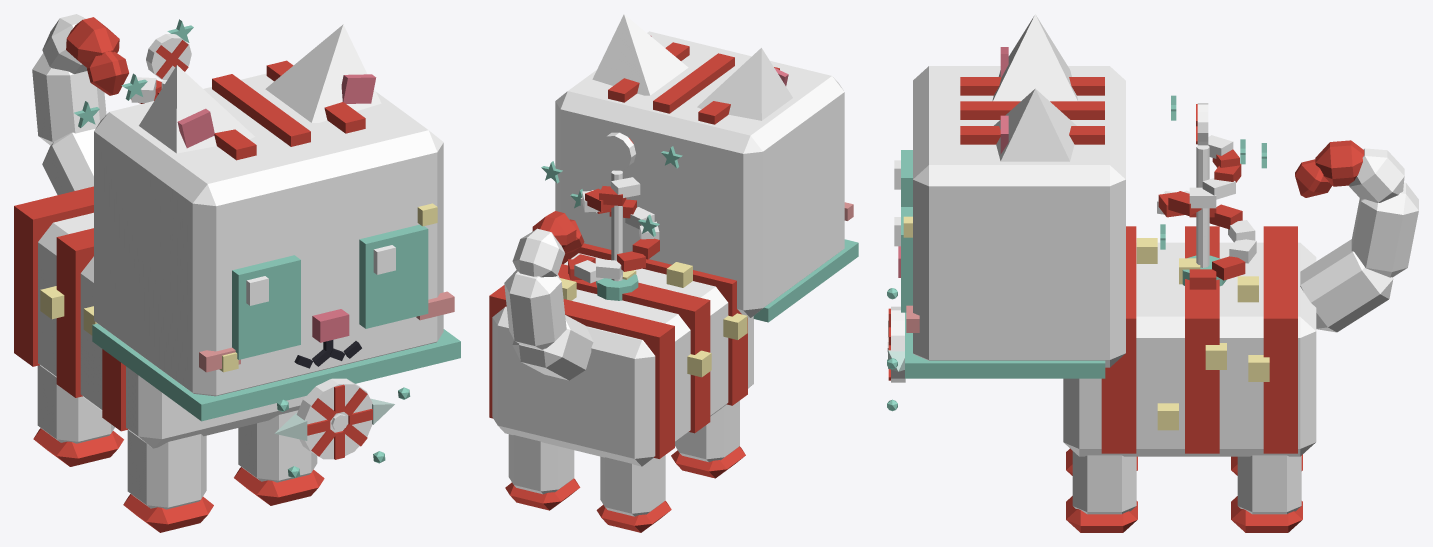
The model's file is CatCafe_Cat_PeppermintSwirl.glb.
The picture shows the model from 3 angles, left to right: view 1: azimuth 30°, elevation 25°; view 2: azimuth 150°, elevation 25°; view 3: azimuth 270°, elevation 25°; orthographic projection. The views are drawn at different scales.
Visible parts, largest first — view 1: CatCafe_Cat_PeppermintSwirl_Head, CatCafe_Cat_PeppermintSwirl_Body, CatCafe_Cat_PeppermintSwirl_Prop, CatCafe_Cat_PeppermintSwirl_Tail, CatCafe_Cat_PeppermintSwirl_LegF2, CatCafe_Cat_PeppermintSwirl_Eye1, CatCafe_Cat_PeppermintSwirl_Eye2, CatCafe_Cat_PeppermintSwirl_EarL, CatCafe_Cat_PeppermintSwirl_LegF1, CatCafe_Cat_PeppermintSwirl_LegB2, CatCafe_Cat_PeppermintSwirl_EarR, CatCafe_Cat_PeppermintSwirl_Prop2 (+2 smaller); view 2: CatCafe_Cat_PeppermintSwirl_Head, CatCafe_Cat_PeppermintSwirl_Body, CatCafe_Cat_PeppermintSwirl_Tail, CatCafe_Cat_PeppermintSwirl_Prop2, CatCafe_Cat_PeppermintSwirl_LegB2, CatCafe_Cat_PeppermintSwirl_LegB1, CatCafe_Cat_PeppermintSwirl_EarL, CatCafe_Cat_PeppermintSwirl_EarR, CatCafe_Cat_PeppermintSwirl_LegF2, CatCafe_Cat_PeppermintSwirl_Prop, CatCafe_Cat_PeppermintSwirl_Sparkle_Glow; view 3: CatCafe_Cat_PeppermintSwirl_Head, CatCafe_Cat_PeppermintSwirl_Body, CatCafe_Cat_PeppermintSwirl_Tail, CatCafe_Cat_PeppermintSwirl_Prop2, CatCafe_Cat_PeppermintSwirl_LegF1, CatCafe_Cat_PeppermintSwirl_Prop, CatCafe_Cat_PeppermintSwirl_LegB1, CatCafe_Cat_PeppermintSwirl_EarR, CatCafe_Cat_PeppermintSwirl_EarL, CatCafe_Cat_PeppermintSwirl_Eye1, CatCafe_Cat_PeppermintSwirl_Eye2, CatCafe_Cat_PeppermintSwirl_Sparkle_Glow.
Part boxes in pixels (x1,y1,x2,y2): CatCafe_Cat_PeppermintSwirl_Head: (94,60,454,396); CatCafe_Cat_PeppermintSwirl_Body: (14,186,305,448); CatCafe_Cat_PeppermintSwirl_Prop: (92,323,460,459); CatCafe_Cat_PeppermintSwirl_Tail: (32,14,128,194); CatCafe_Cat_PeppermintSwirl_LegF2: (123,430,213,532); CatCafe_Cat_PeppermintSwirl_Eye1: (359,224,428,328); CatCafe_Cat_PeppermintSwirl_Eye2: (232,255,300,359); CatCafe_Cat_PeppermintSwirl_EarL: (265,24,381,122); CatCafe_Cat_PeppermintSwirl_LegF1: (234,410,324,505); CatCafe_Cat_PeppermintSwirl_LegB2: (33,365,123,466); CatCafe_Cat_PeppermintSwirl_EarR: (139,65,254,153); CatCafe_Cat_PeppermintSwirl_Prop2: (131,34,191,103); CatCafe_Cat_PeppermintSwirl_Head: (555,31,853,317); CatCafe_Cat_PeppermintSwirl_Body: (489,243,753,466); CatCafe_Cat_PeppermintSwirl_Tail: (504,211,593,380); CatCafe_Cat_PeppermintSwirl_Prop2: (568,132,659,300); CatCafe_Cat_PeppermintSwirl_LegB2: (596,455,671,532); CatCafe_Cat_PeppermintSwirl_LegB1: (505,434,580,510); CatCafe_Cat_PeppermintSwirl_EarL: (592,14,688,95); CatCafe_Cat_PeppermintSwirl_EarR: (697,48,792,120); CatCafe_Cat_PeppermintSwirl_LegF2: (671,400,745,478); CatCafe_Cat_PeppermintSwirl_Prop: (753,239,858,322); CatCafe_Cat_PeppermintSwirl_Sparkle_Glow: (541,146,682,236); CatCafe_Cat_PeppermintSwirl_Head: (898,66,1125,367); CatCafe_Cat_PeppermintSwirl_Body: (1063,226,1316,456); CatCafe_Cat_PeppermintSwirl_Tail: (1295,140,1418,332); CatCafe_Cat_PeppermintSwirl_Prop2: (1157,103,1256,289); CatCafe_Cat_PeppermintSwirl_LegF1: (1066,451,1137,532); CatCafe_Cat_PeppermintSwirl_Prop: (887,306,1105,382); CatCafe_Cat_PeppermintSwirl_LegB1: (1231,455,1302,532); CatCafe_Cat_PeppermintSwirl_EarR: (992,14,1077,101); CatCafe_Cat_PeppermintSwirl_EarL: (994,88,1076,161); CatCafe_Cat_PeppermintSwirl_Eye1: (894,207,912,312); CatCafe_Cat_PeppermintSwirl_Eye2: (894,150,912,206); CatCafe_Cat_PeppermintSwirl_Sparkle_Glow: (1160,95,1266,249).
Size of the model in its own units: 1.03 by 1.86 by 2.
Materials: 1 (1 with a texture image).
